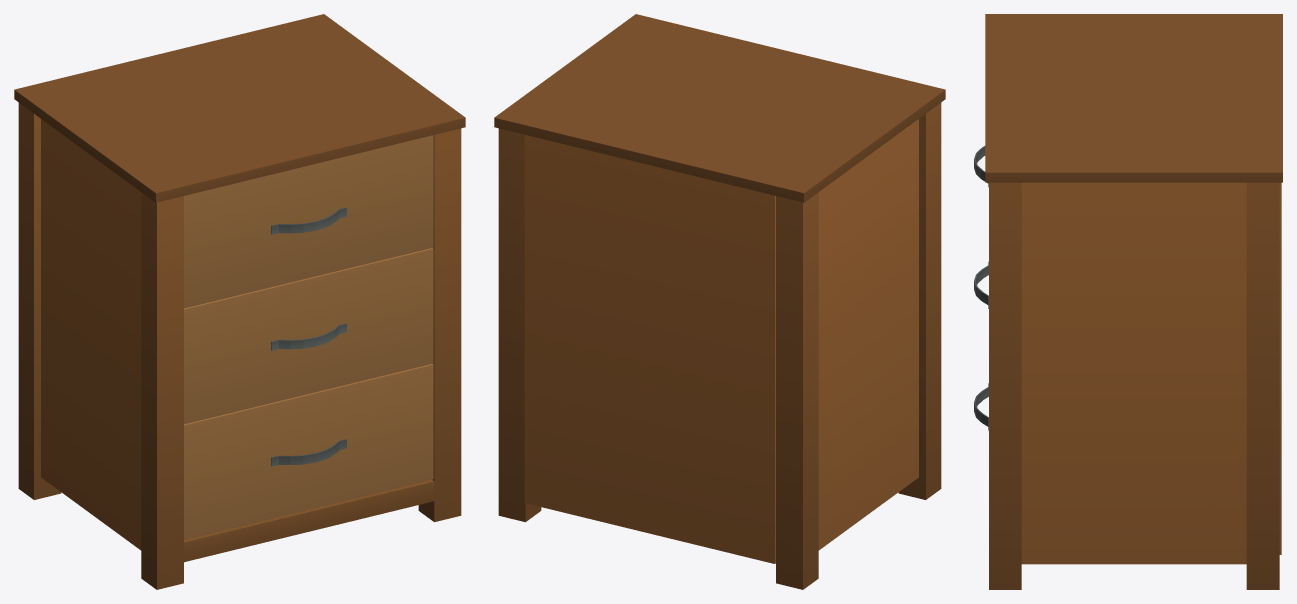
Rendered from Prop_Nightstand_02.obj.
3 views of the same model, side by side, from view 1: azimuth 30°, elevation 25°; view 2: azimuth 150°, elevation 25°; view 3: azimuth 270°, elevation 25° (orthographic). The views are drawn at different scales.
Parts seen in each view (by area): view 1: Prop_Nightstand_02, Prop_Nightstand_Middle_02, Prop_Nightstand_Bottom_02, Prop_Nightstand_Top_02; view 2: Prop_Nightstand_02; view 3: Prop_Nightstand_02.
Boxes of the visible parts, box(x1,y1,x2,y2) form: Prop_Nightstand_02: box(14, 14, 465, 589); Prop_Nightstand_Middle_02: box(184, 248, 433, 424); Prop_Nightstand_Bottom_02: box(184, 364, 433, 539); Prop_Nightstand_Top_02: box(184, 135, 433, 308); Prop_Nightstand_02: box(494, 14, 945, 589); Prop_Nightstand_02: box(985, 14, 1282, 589).
Bounding box in the file's own units: 0.6096 × 0.7493 × 0.5011.
Materials: 1 (1 with a texture image).
